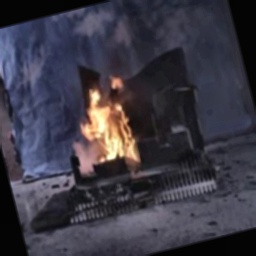fire: (65, 70, 146, 172)
